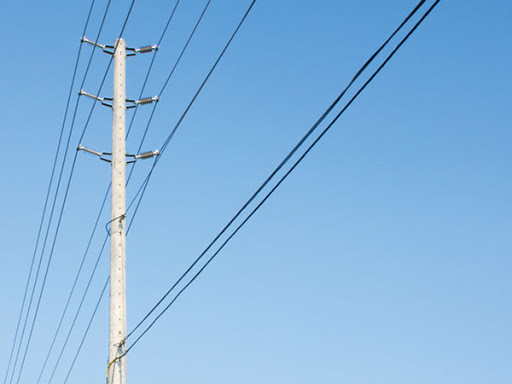utility_pole: (69, 27, 167, 174)
